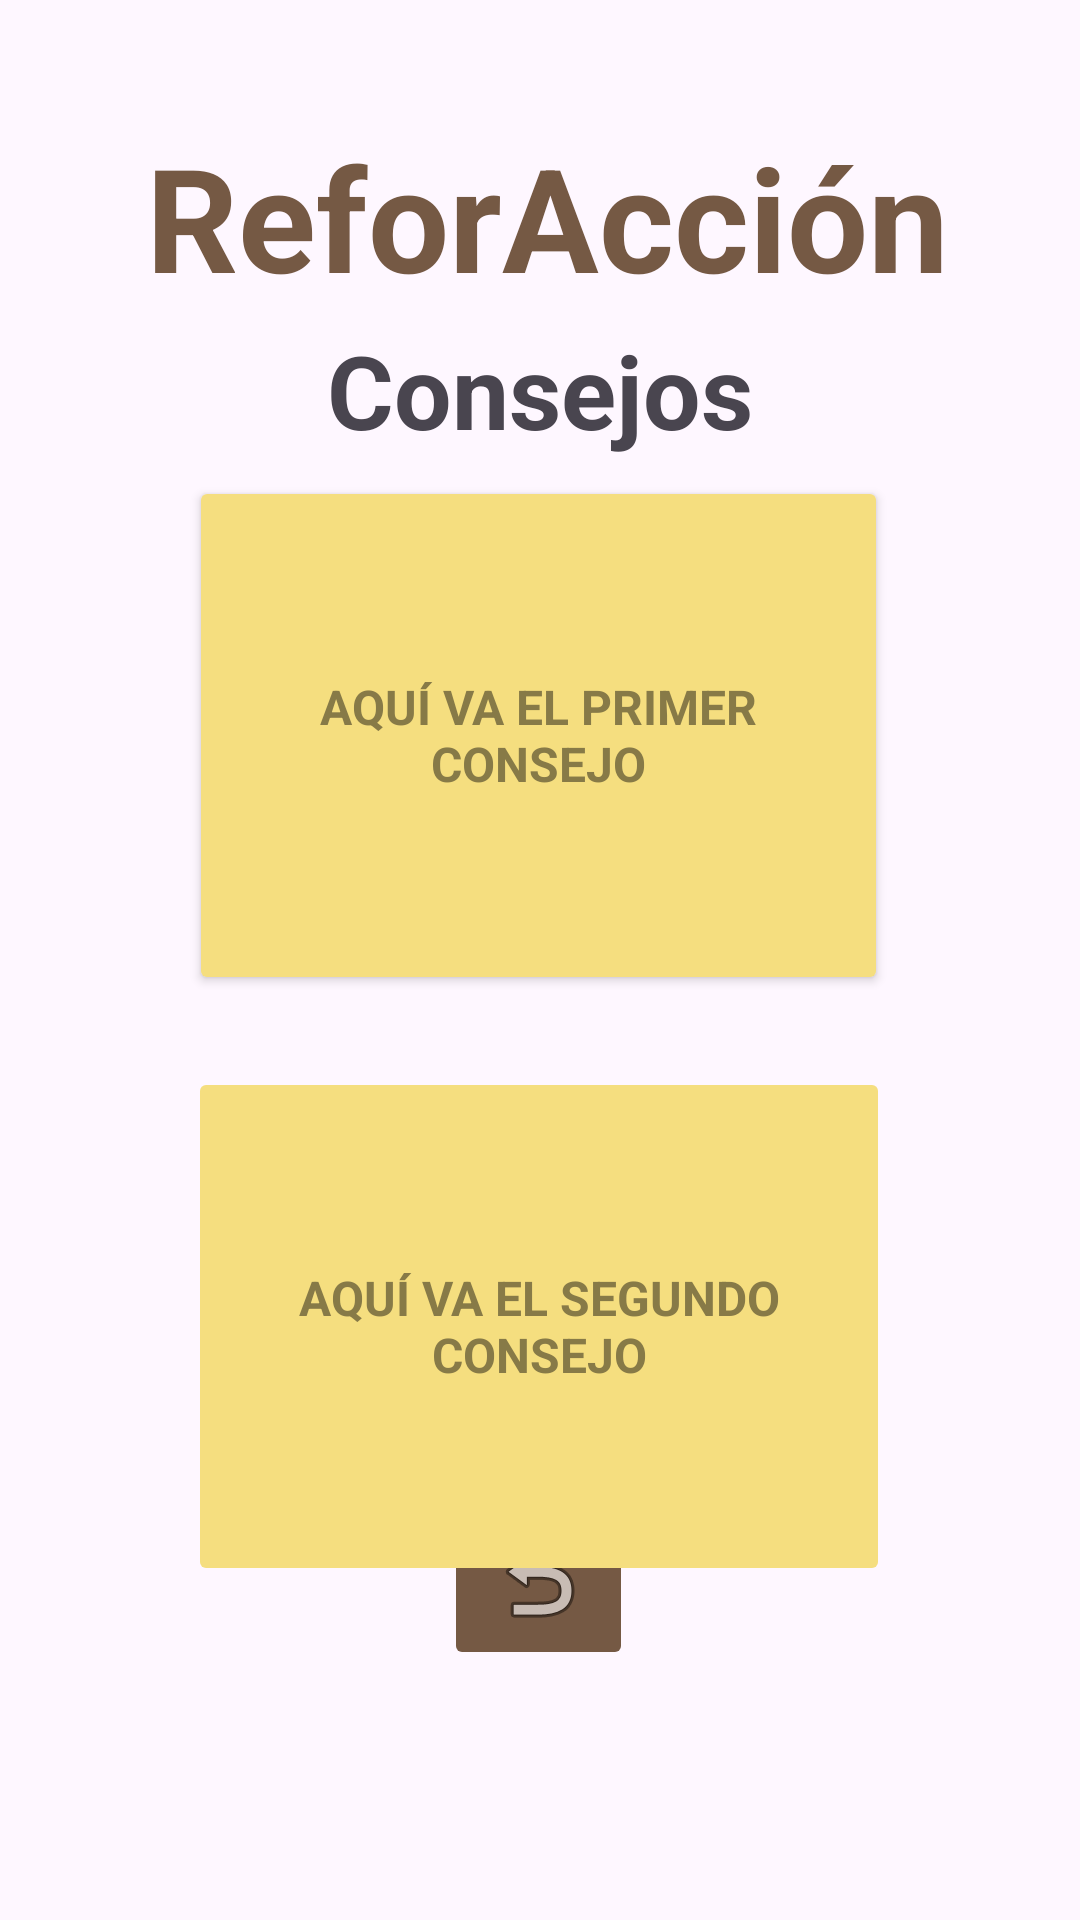

Screen size 1080px×1920px. Icon name, then its center in pixels as point (x, y):
Retornar: point (538, 1586)
